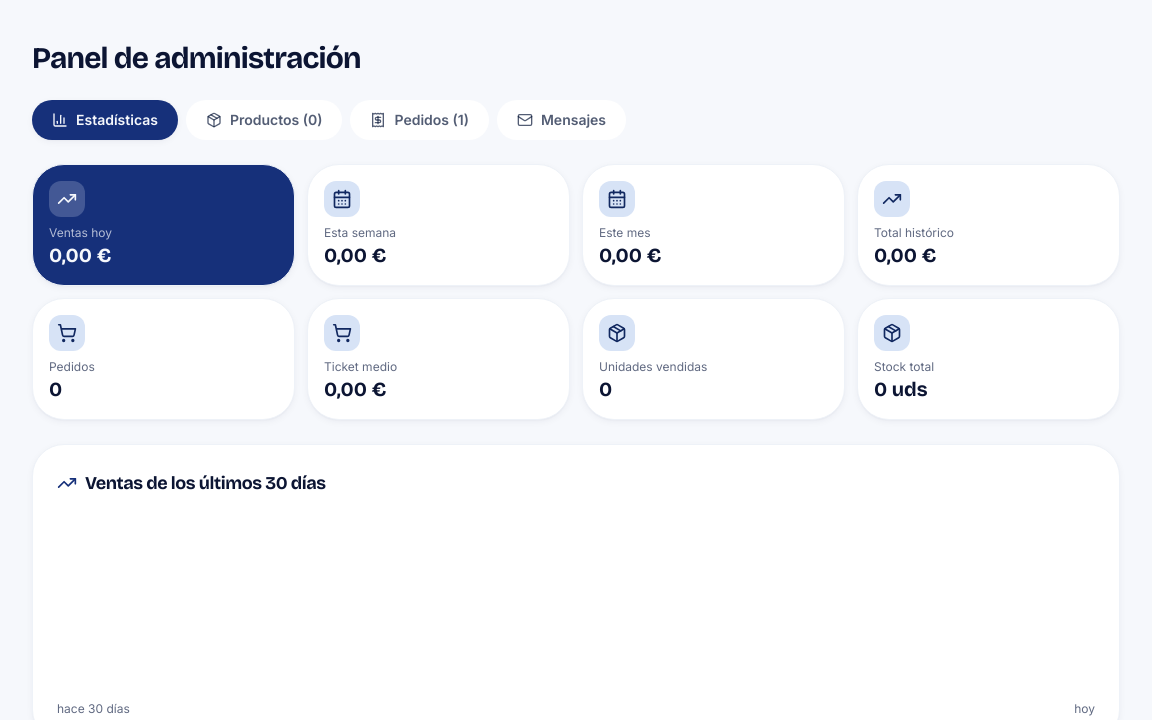
it: el control de estado del panel › el selector tiene nombre accesible con la referencia del pedido
Click the button "Pedidos (1)".
click(420, 120)  # box [350,100,489,140]
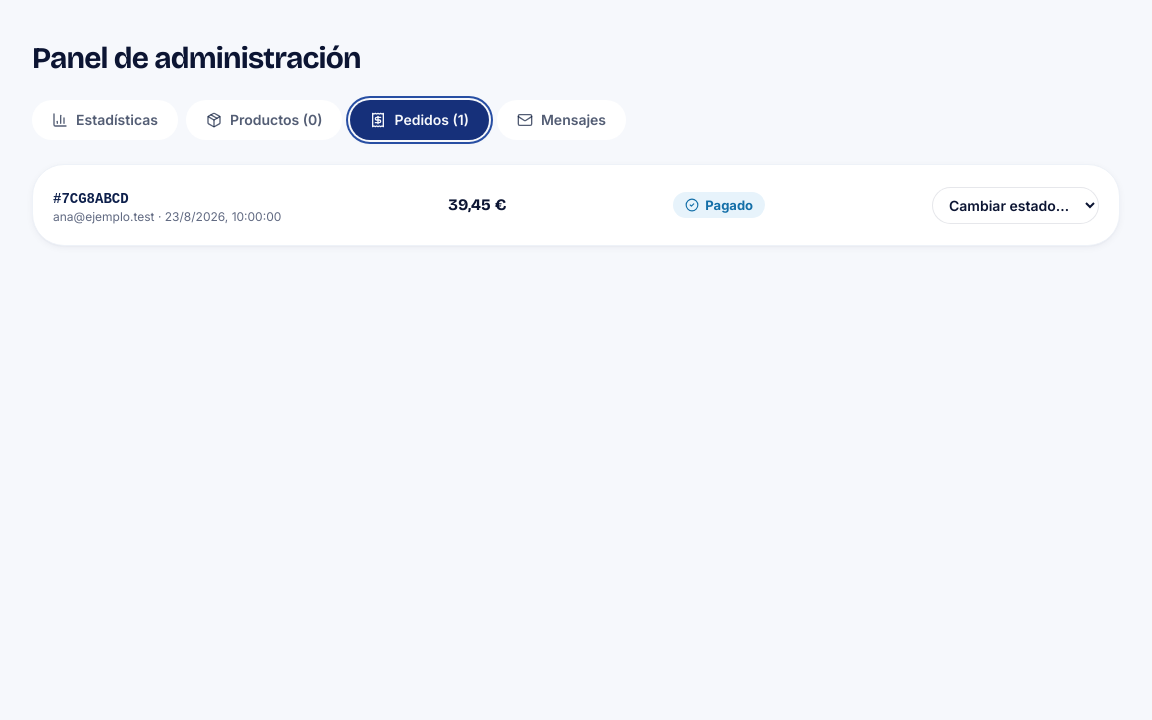
Expected: the dropdown named "cambiar el estado del pedido 7CG8ABCD" is shown, [932,186,1099,224]
